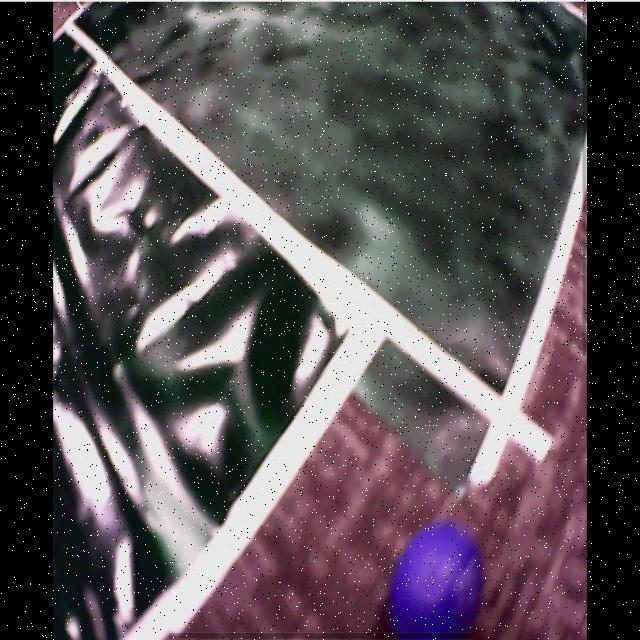ball: (394, 524, 481, 640)
